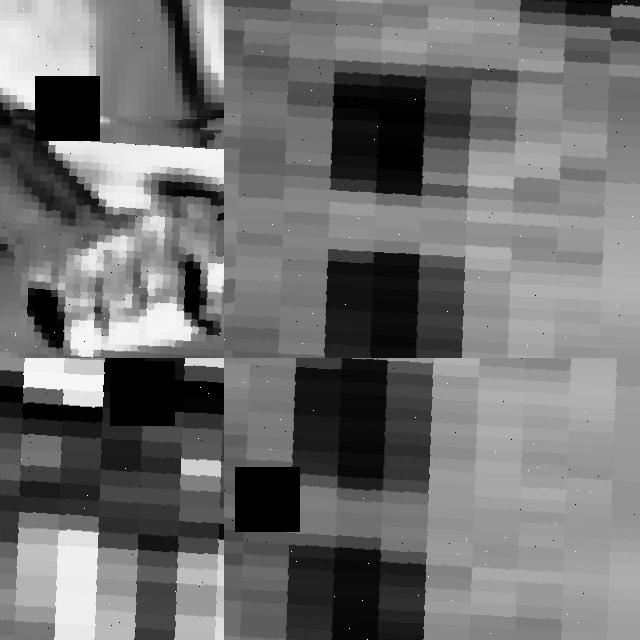arms: (224, 0, 640, 358), (224, 358, 640, 640), (0, 358, 224, 640), (0, 116, 224, 358)
